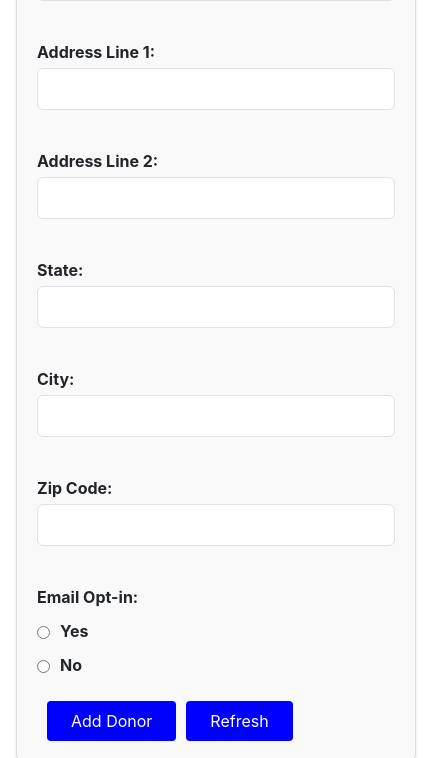
Test: DonorForm component › displays error message when Zip Code is invalid
(page scrolled)
Type "1234" into the field labelled "Zip Code:" at (216, 525), box left=37, top=504, right=395, bottom=546
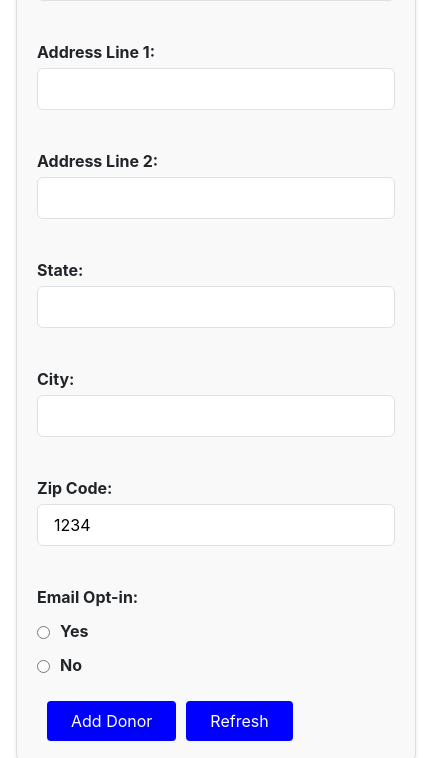
Click the button "Add Donor" at (112, 721), box left=47, top=701, right=176, bottom=741
(page scrolled)
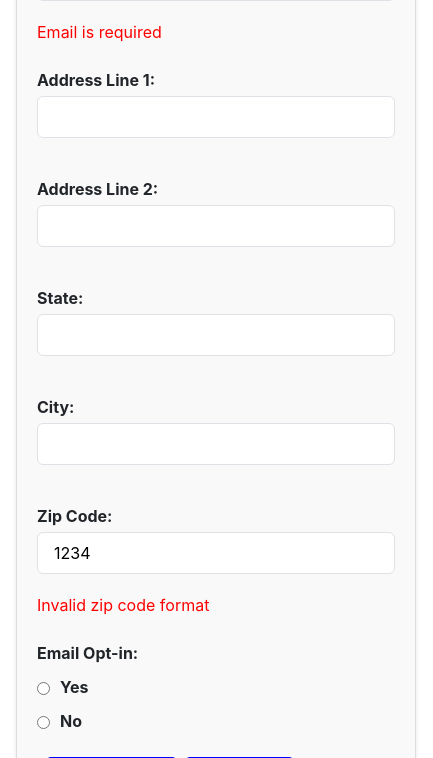
Result: the text "Invalid zip code format" is shown at left=37, top=595, right=209, bottom=615
